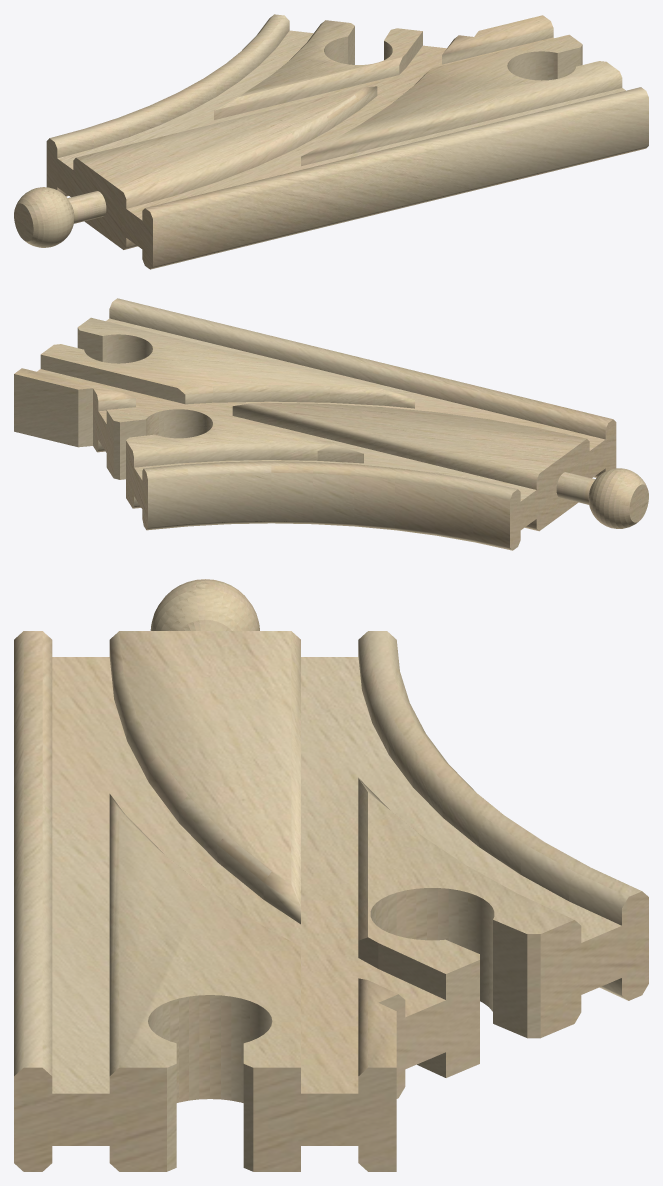
3 views of the same model, one above another, from view 1: azimuth 30°, elevation 25°; view 2: azimuth 150°, elevation 25°; view 3: azimuth 270°, elevation 25° (orthographic). The views are drawn at different scales.
Visible parts, largest first — view 1: SketchUp, _3d_peg; view 2: SketchUp, _3d_peg; view 3: SketchUp, _3d_peg.
Boxes of the visible parts, x1,y1,x2,y2 form: SketchUp: (46,14,648,269); _3d_peg: (14,187,106,247); SketchUp: (14,298,616,550); _3d_peg: (556,468,648,528); SketchUp: (14,631,648,1171); _3d_peg: (150,579,259,630).
Size of the model in its own units: 4.9 by 2.61 by 0.4724.
